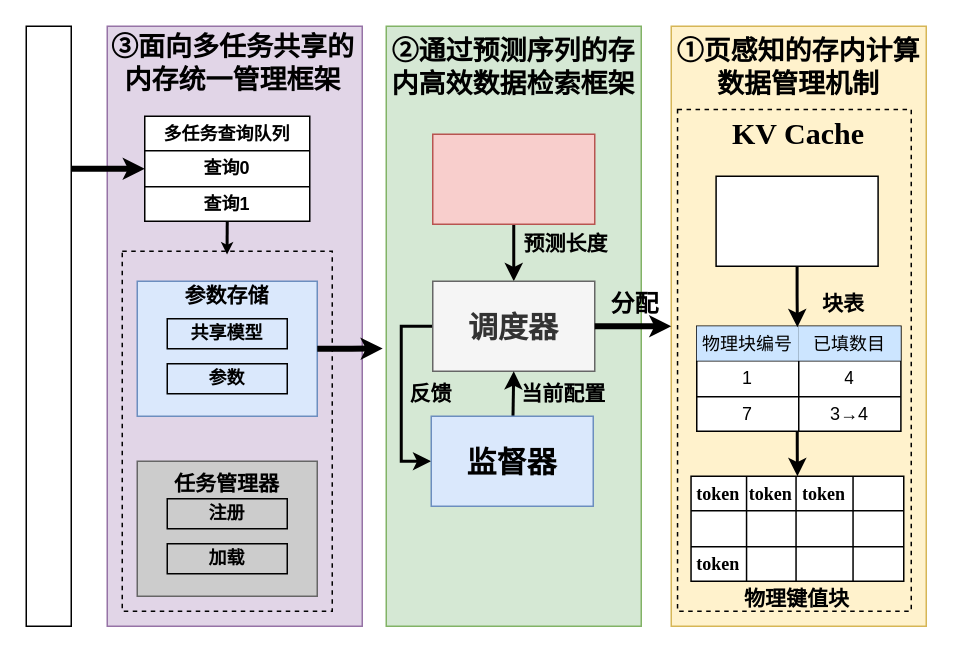
Image size: 953x653. Some labels were removed from this diagram. Here are the shapes that lost their labels. From the top down, the centre of each, then its label:
the point at 513,178: 预测器
the point at 796,220: 逻辑键值块
the point at 48,325: 推理任务
